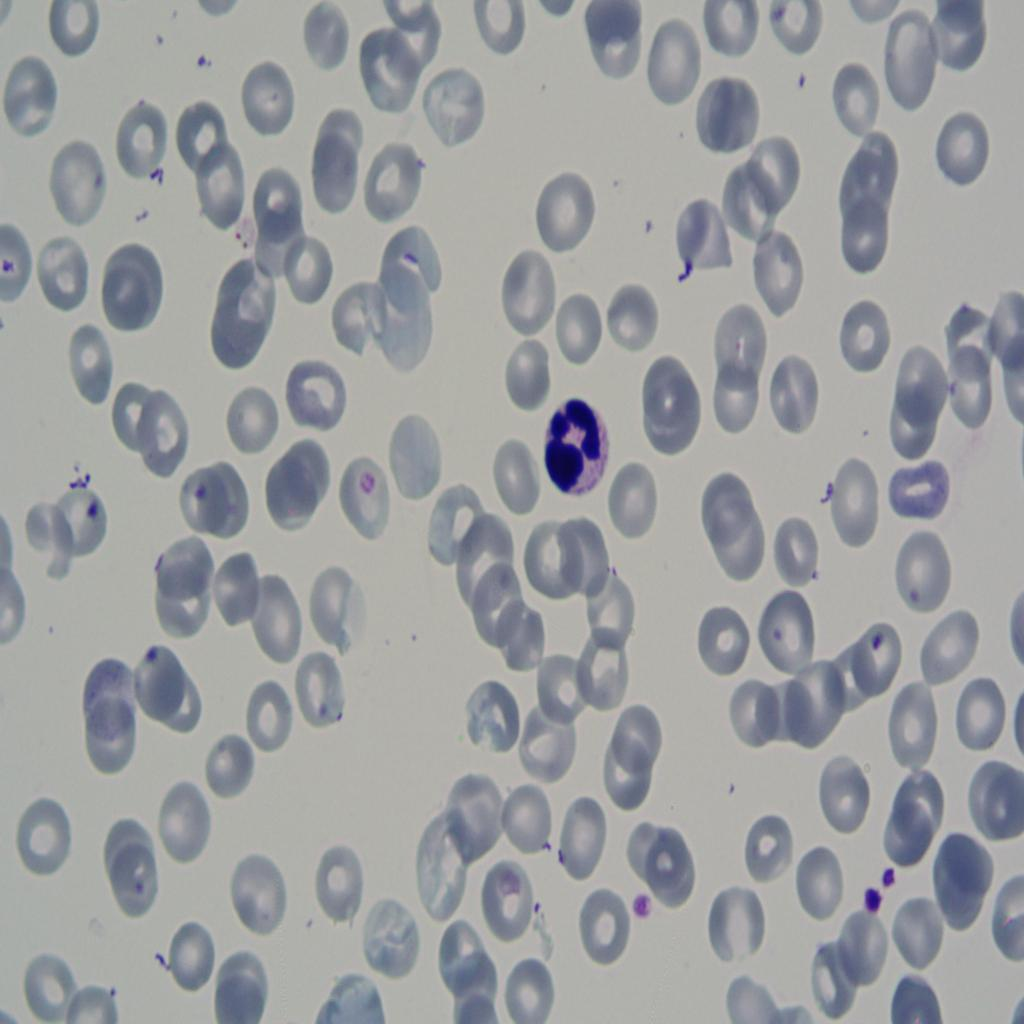Neutrofil: (534, 380, 616, 500)
Platelet: (621, 880, 658, 936), (788, 61, 819, 104), (83, 491, 113, 532), (862, 886, 890, 929), (879, 856, 904, 888)
